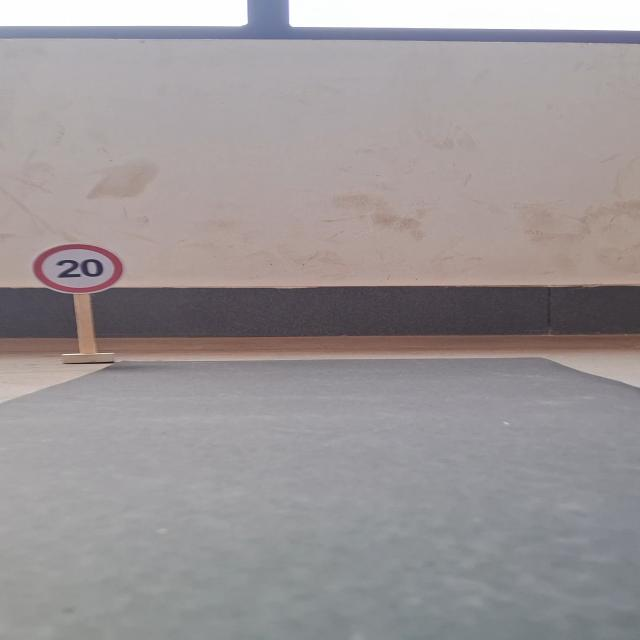Speed20: (22, 240, 136, 302)
